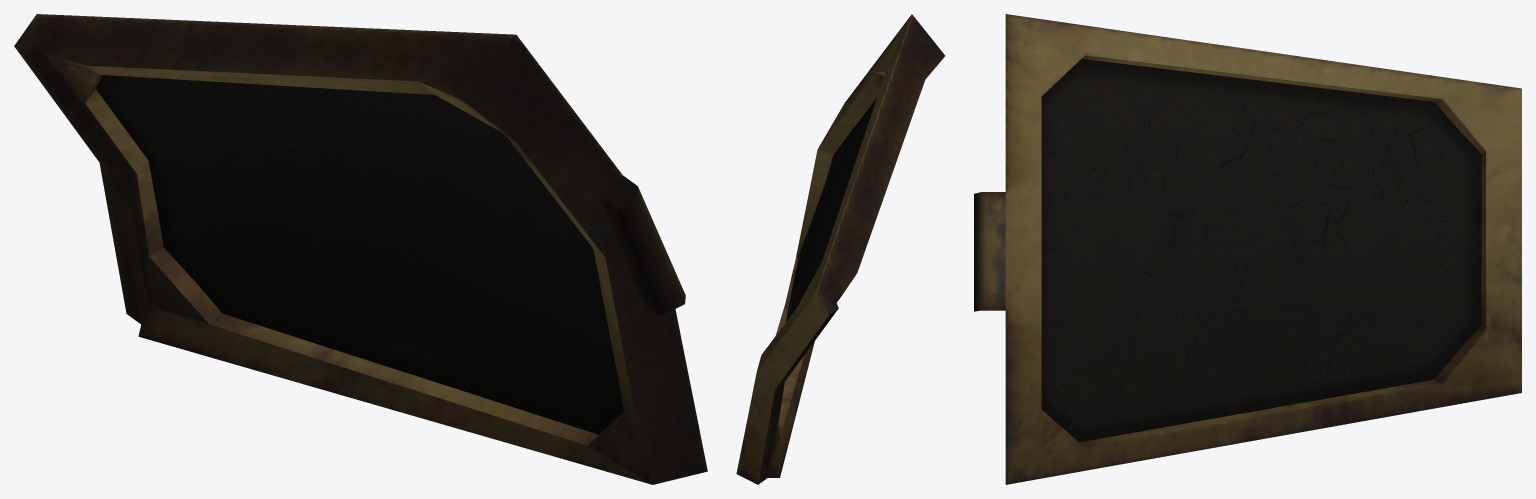
Rendered from 01_05_transporter_passenger_window_hatch01.dae.
3 renders of one model, left to right at view 1: azimuth 30°, elevation 25°; view 2: azimuth 150°, elevation 25°; view 3: azimuth 270°, elevation 25°, orthographic. The views are drawn at different scales.
Parts seen in each view (by area): view 1: window01_glass, polySurface1131; view 2: polySurface1131, window01_glass; view 3: window01_glass, polySurface1131.
Part boxes in pixels (x1,y1,x2,y2): window01_glass: [96, 75, 624, 434]; polySurface1131: [14, 14, 707, 484]; polySurface1131: [736, 14, 945, 484]; window01_glass: [785, 98, 876, 322]; window01_glass: [1041, 59, 1481, 442]; polySurface1131: [974, 14, 1521, 484].
Bounding box in the file's own units: 1.18 × 1.49 × 1.82.
